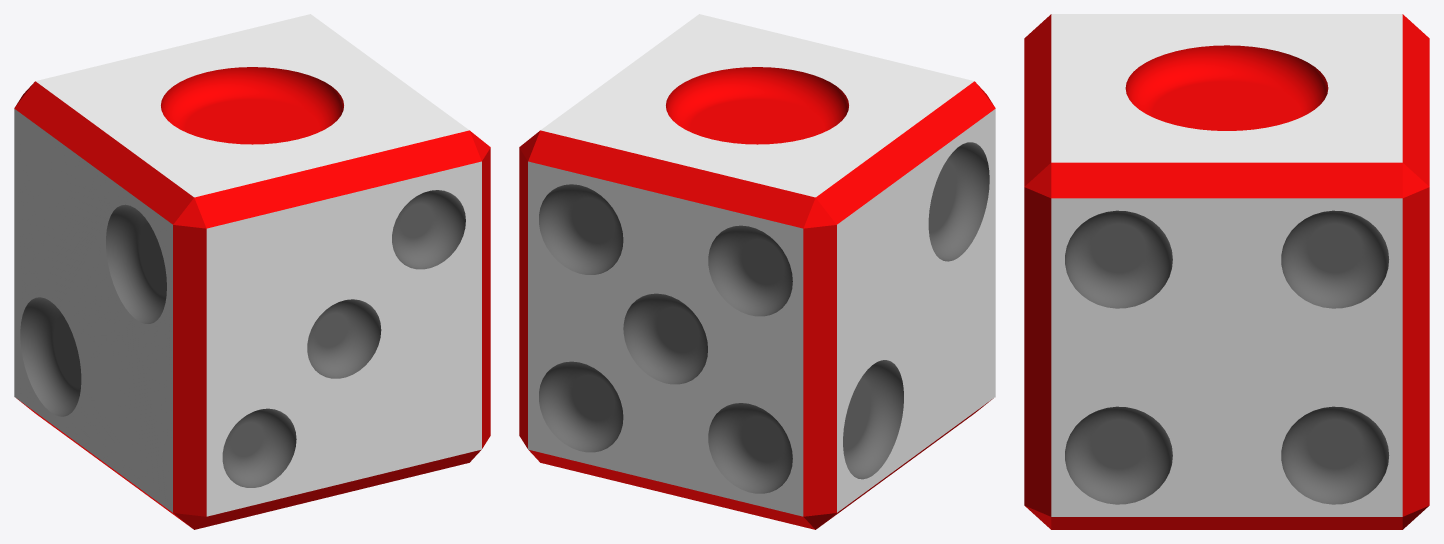
The model's file is Saikoro.glb.
The picture shows the model from 3 angles, left to right: view 1: azimuth 30°, elevation 25°; view 2: azimuth 150°, elevation 25°; view 3: azimuth 270°, elevation 25°; orthographic projection. The views are drawn at different scales.
Visible parts, largest first — view 1: Saikoro本; view 2: Saikoro本; view 3: Saikoro本.
Part boxes in pixels (box(x1,y1,x2,y2)): Saikoro本: box(14, 14, 490, 529); Saikoro本: box(519, 14, 995, 529); Saikoro本: box(1024, 14, 1429, 529).
Bounding box in the file's own units: 0.03 × 0.03 × 0.03.
